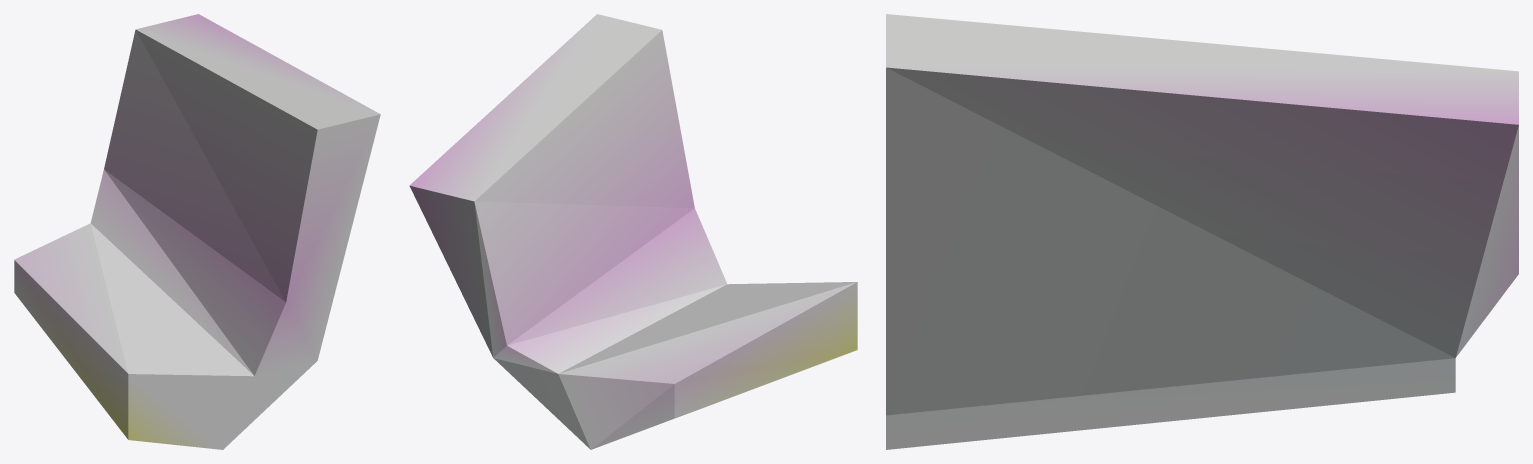
3 renders of one model, left to right at view 1: azimuth 30°, elevation 25°; view 2: azimuth 150°, elevation 25°; view 3: azimuth 270°, elevation 25°, orthographic. The views are drawn at different scales.
Parts seen in each view (by area): view 1: model_1126; view 2: model_1126; view 3: model_1126.
Boxes of the visible parts, x1=… form: model_1126: x1=14, y1=14, x2=380, y2=449; model_1126: x1=409, y1=14, x2=857, y2=449; model_1126: x1=886, y1=14, x2=1518, y2=449.
Bounding box in the file's own units: 8 × 9 × 10.
